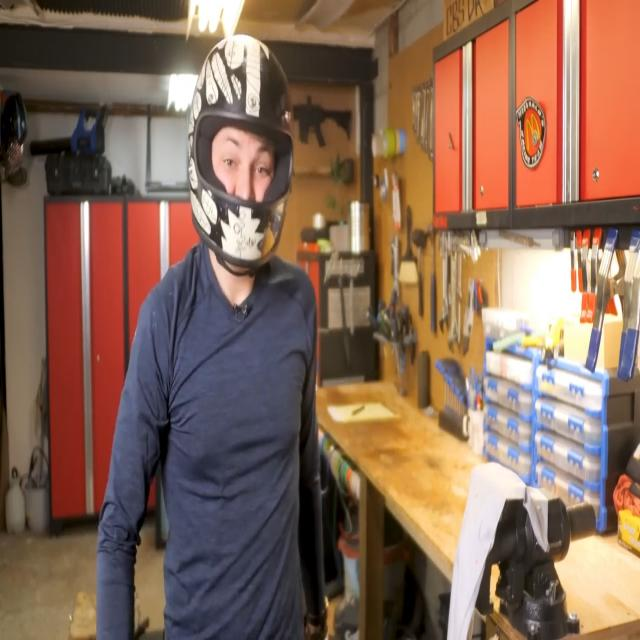Helmet_Wearer: (180, 35, 294, 262)
Person: (100, 34, 330, 640)
